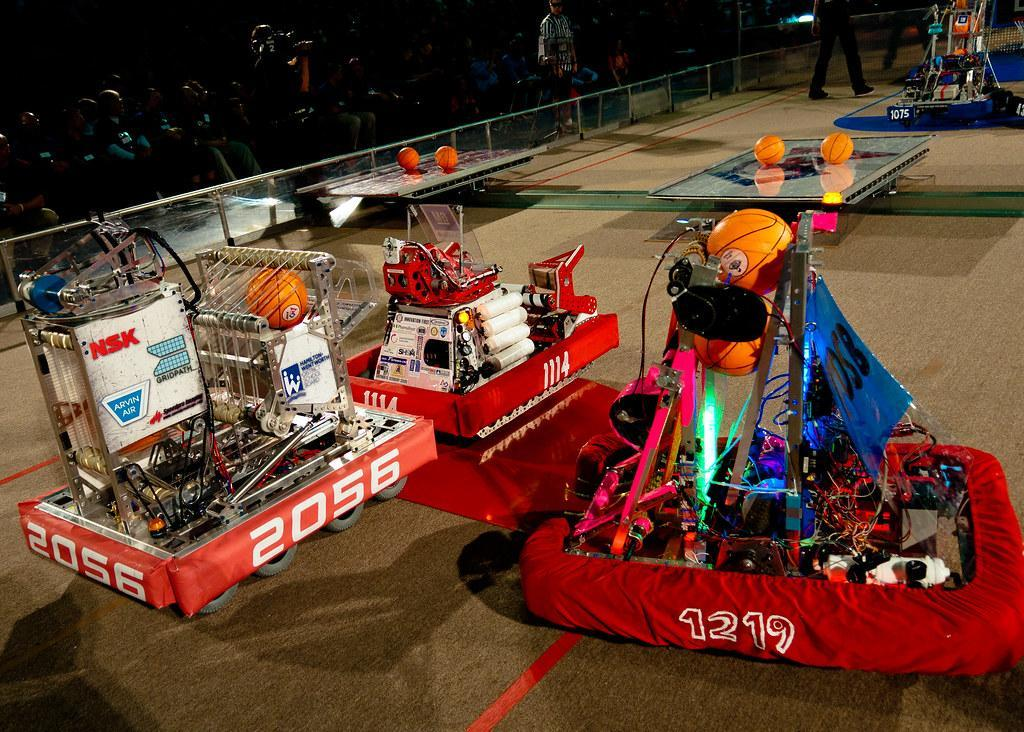robot: (0, 205, 447, 629), (340, 195, 627, 442), (880, 0, 1024, 137)
